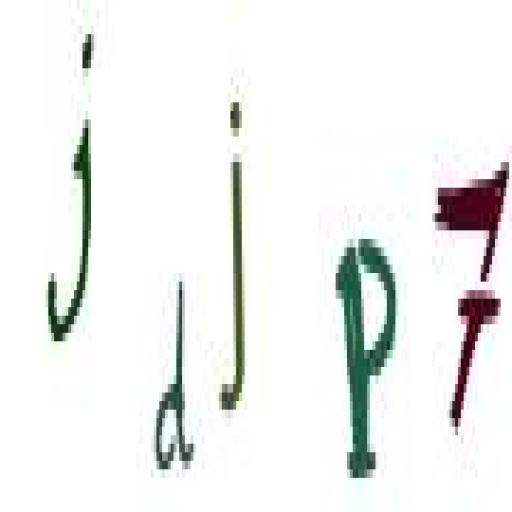7: (428, 147, 510, 455)
P: (332, 228, 404, 493)
d: (149, 269, 196, 498)
j: (42, 9, 97, 379), (220, 68, 251, 438)
